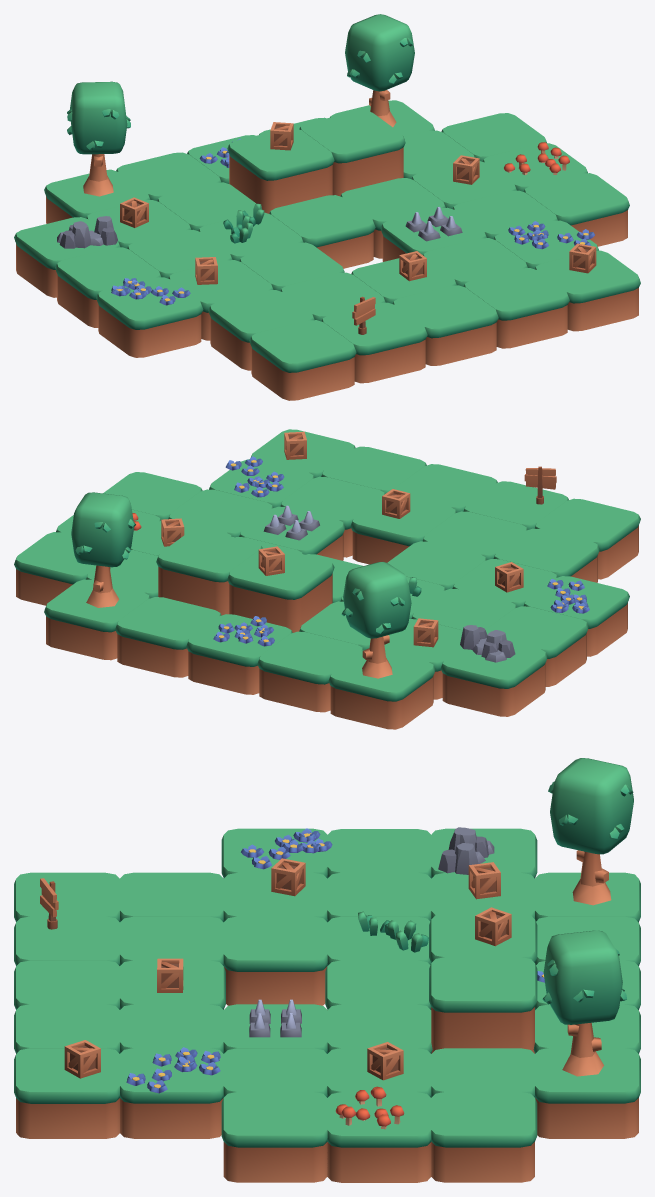
The model's file is level1.glb.
3 renders of one model, top to bottom at view 1: azimuth 30°, elevation 25°; view 2: azimuth 150°, elevation 25°; view 3: azimuth 270°, elevation 25°, orthographic. The views are drawn at different scales.
Visible parts, largest first — view 1: Block_29, Tall_01, Block_18, Tall_02, Block_32, Block_31, Block_30, Block_33, Tree_02, Tree_01, Block_14, Block_23 (+33 smaller); view 2: Tall_01, Block_01, Block_06, Tall_02, Block_02, Block_04, Tree_01, Block_05, Tree_02, Block_03, Block_29, Block_11 (+34 smaller); view 3: Tall_02, Block_23, Block_10, Block_20, Block_05, Block_17, Block_33, Tree_01, Tree_02, Block_28, Block_31, Block_14 (+35 smaller).
Part boxes in pixels (x1,y1,x2,y2): Block_29: (249, 320, 356, 400); Tall_01: (227, 128, 334, 213); Block_18: (96, 277, 203, 357); Tall_02: (299, 110, 405, 196); Block_32: (463, 268, 569, 348); Block_31: (392, 285, 498, 365); Block_30: (321, 302, 427, 383); Block_33: (535, 250, 640, 331); Tree_02: (345, 14, 414, 127); Tree_01: (67, 81, 130, 196); Block_14: (269, 195, 375, 268); Block_23: (523, 173, 629, 246); Tall_01: (227, 547, 334, 632); Block_01: (328, 650, 435, 729); Block_06: (440, 642, 547, 716); Tall_02: (156, 529, 262, 615); Block_02: (257, 631, 363, 712); Block_04: (115, 597, 221, 677); Tree_01: (341, 561, 411, 678); Block_05: (44, 579, 150, 660); Tree_02: (71, 492, 135, 607); Block_03: (186, 614, 292, 694); Block_29: (534, 498, 640, 579); Block_11: (485, 606, 588, 686); Tall_02: (429, 957, 537, 1053); Block_23: (221, 1092, 327, 1182); Block_10: (431, 1092, 537, 1182); Block_20: (223, 916, 327, 1005); Block_05: (535, 1048, 640, 1138); Block_17: (327, 1092, 431, 1182); Block_33: (14, 1048, 119, 1138); Tree_01: (548, 758, 633, 905); Tree_02: (542, 930, 626, 1076); Block_28: (120, 1048, 223, 1138); Block_31: (14, 960, 119, 1009); Block_14: (325, 960, 431, 1009).
Size of what is drawn, in the model's own units: 14.08 by 3.7 by 12.08.
Materials: 1 (1 with a texture image).
